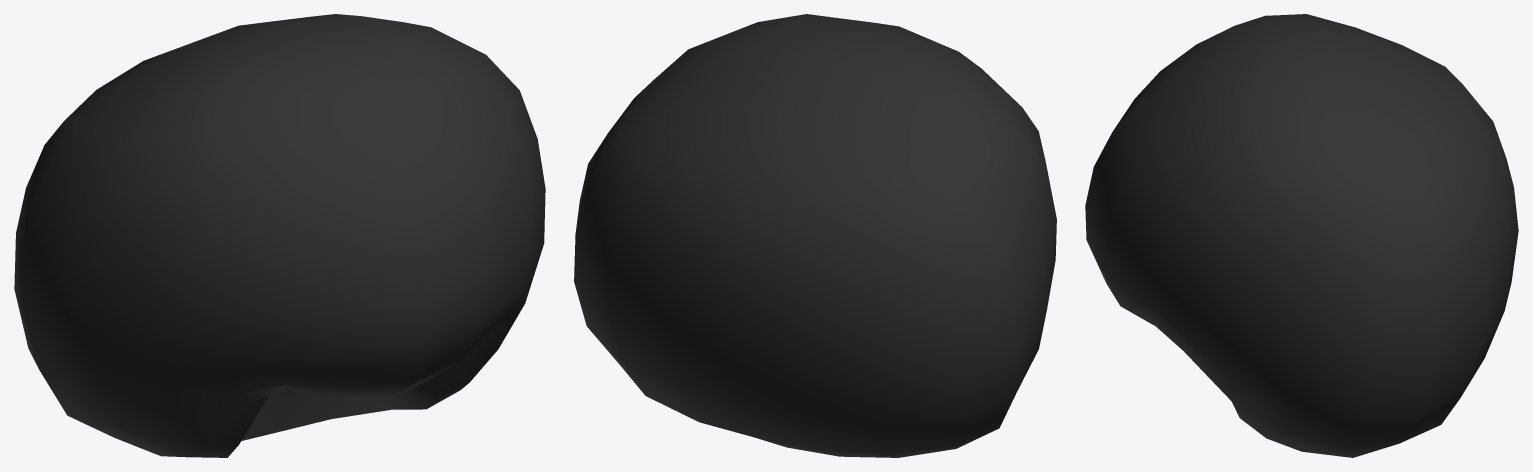
File: Disco_Hairs_01.fbx
3 renders of one model, left to right at view 1: azimuth 30°, elevation 25°; view 2: azimuth 150°, elevation 25°; view 3: azimuth 270°, elevation 25°, orthographic. The views are drawn at different scales.
Parts seen in each view (by area): view 1: Disco_Hairs_01; view 2: Disco_Hairs_01; view 3: Disco_Hairs_01.
Boxes of the visible parts, x1,y1,x2,y2 form: Disco_Hairs_01: (14,14,545,457); Disco_Hairs_01: (574,14,1056,457); Disco_Hairs_01: (1085,14,1518,457).
Size of the model in its own units: 117 by 96.92 by 103.
